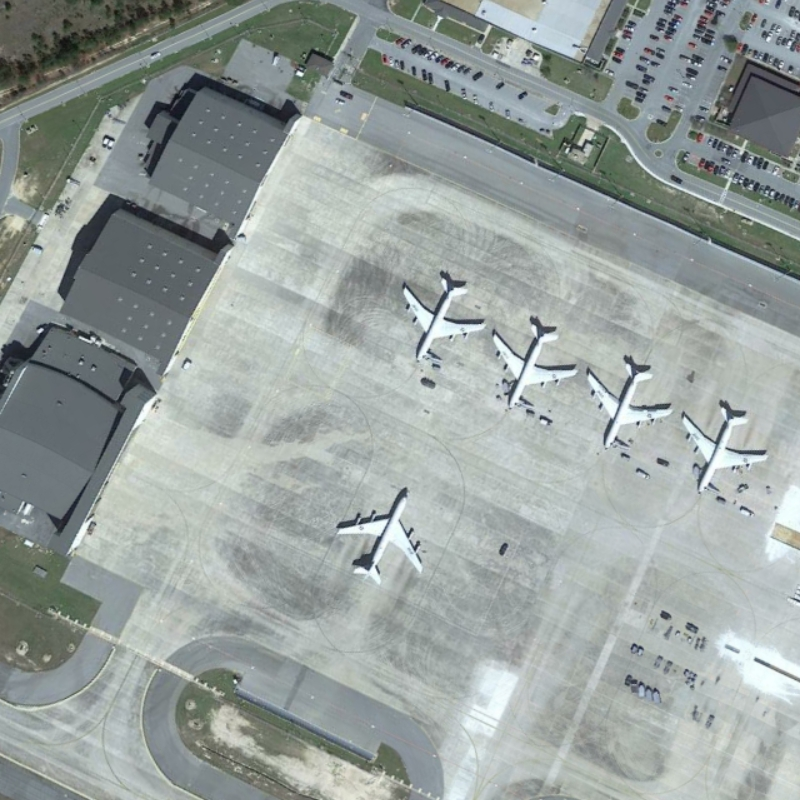A11: (333, 482, 431, 584), (678, 401, 772, 499), (489, 315, 579, 414), (585, 356, 674, 452), (402, 271, 487, 370)
